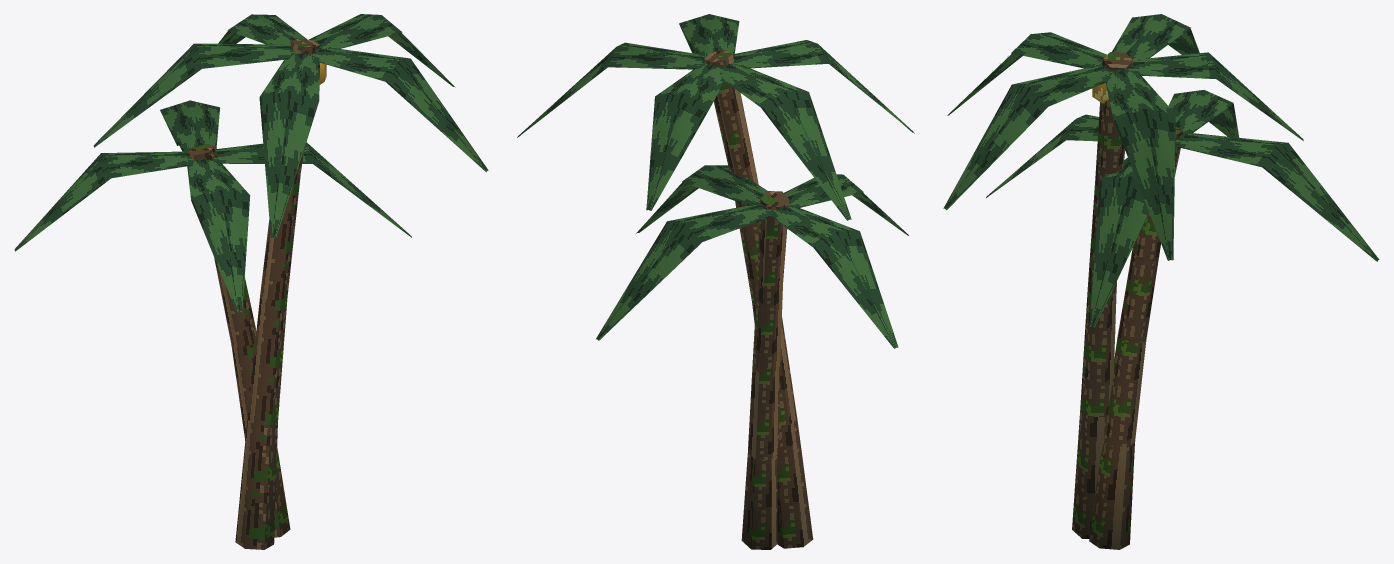
The model's file is wild.palm__twin.glb.
The picture shows the model from 3 angles, left to right: view 1: azimuth 30°, elevation 25°; view 2: azimuth 150°, elevation 25°; view 3: azimuth 270°, elevation 25°; orthographic projection. The views are drawn at different scales.
Parts seen in each view (by area): view 1: kit_shell_crown, kit_trunk; view 2: kit_shell_crown, kit_trunk; view 3: kit_shell_crown, kit_trunk.
Part boxes in pixels (x1,y1,x2,y2): kit_shell_crown: (14, 14, 488, 312); kit_trunk: (187, 38, 319, 549); kit_shell_crown: (517, 14, 914, 348); kit_trunk: (704, 50, 813, 549); kit_shell_crown: (943, 14, 1379, 327); kit_trunk: (1072, 52, 1184, 549).
Bounding box in the file's own units: 5.86 × 6.56 × 5.11.
Materials: 3 (3 with a texture image).
